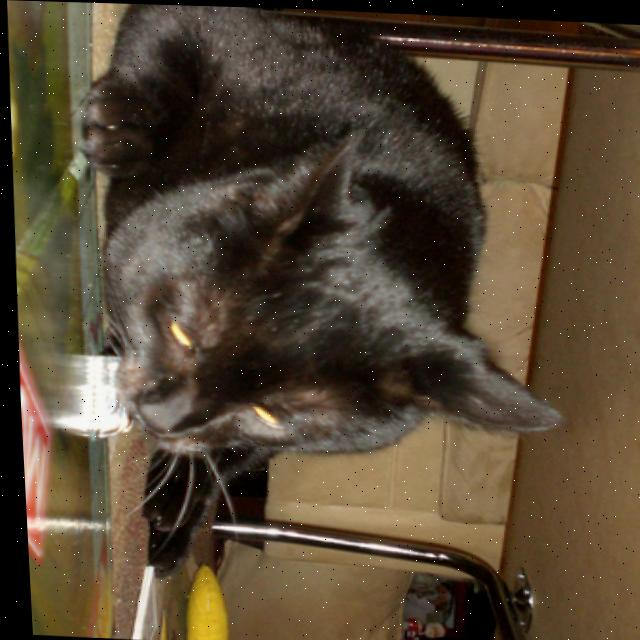Bombay: (63, 1, 576, 599)
